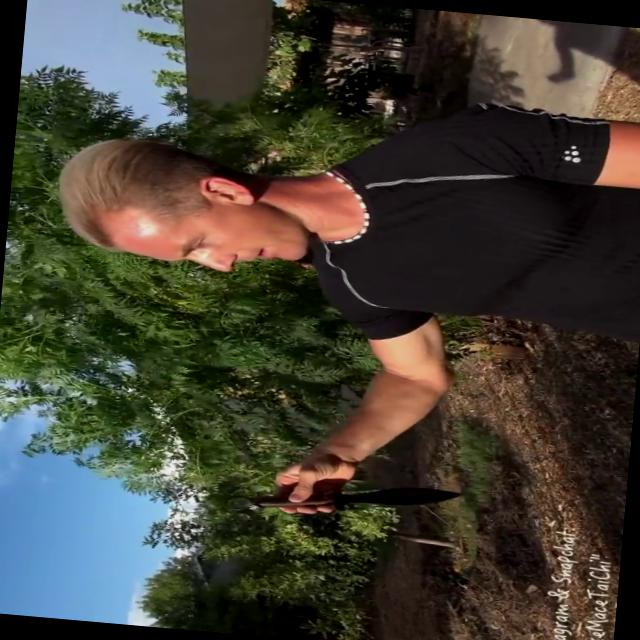knife: (236, 460, 478, 536)
